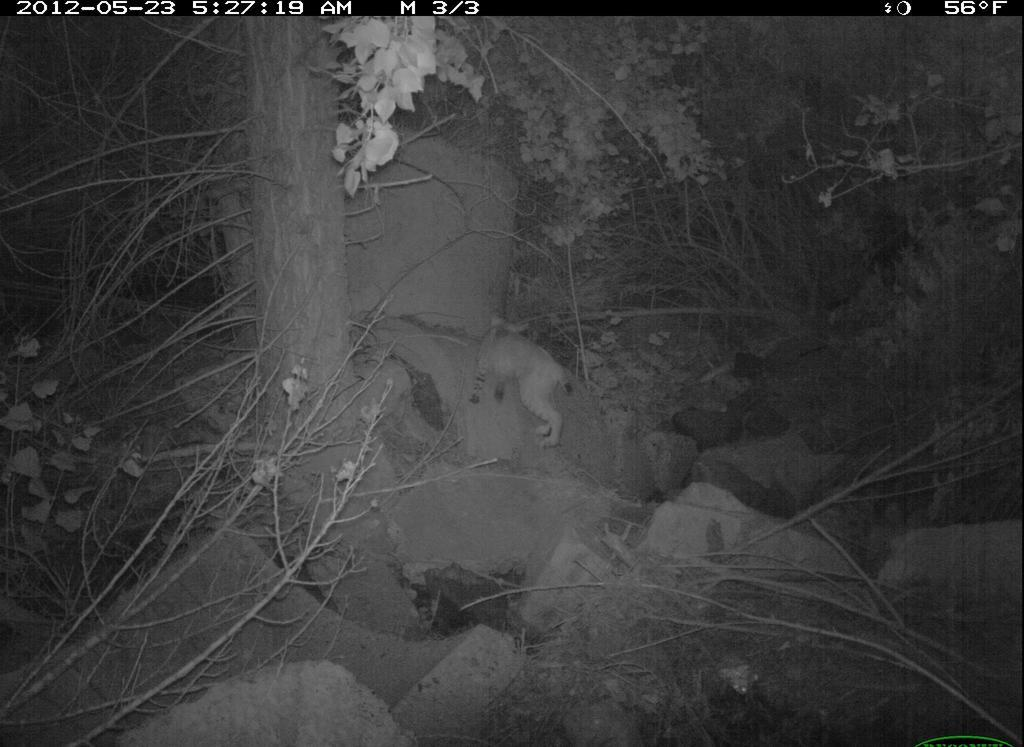bobcat: (469, 313, 583, 459)
